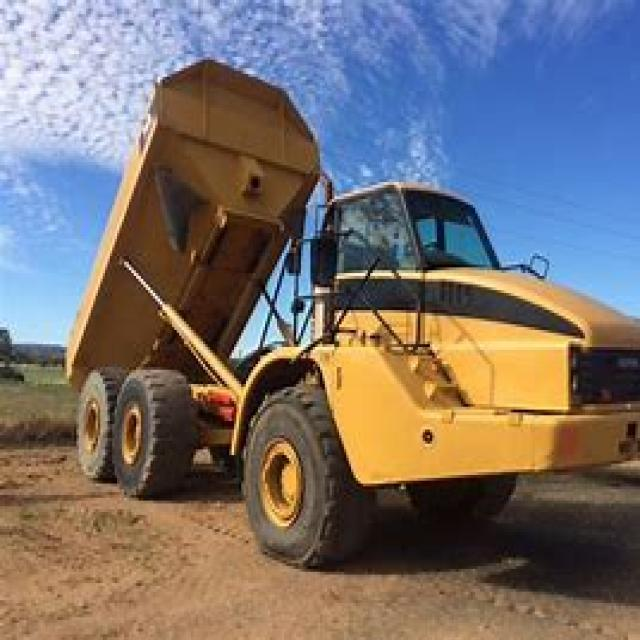dump_truck: (55, 54, 638, 560)
